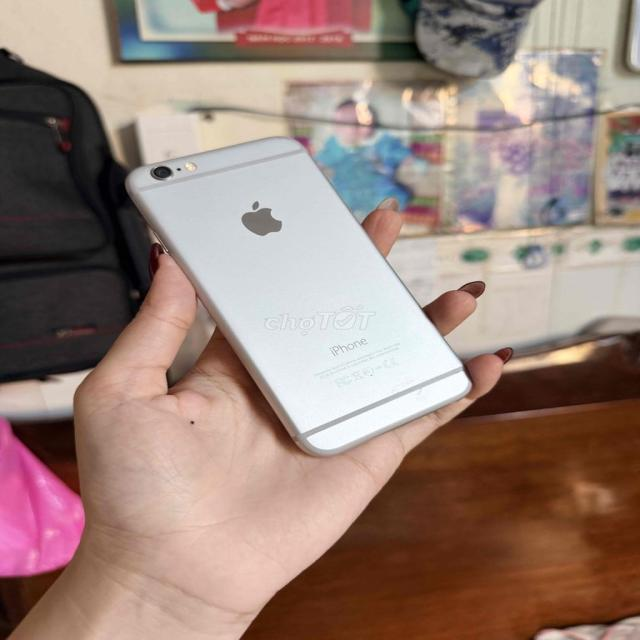gen_6: (103, 131, 499, 449)
